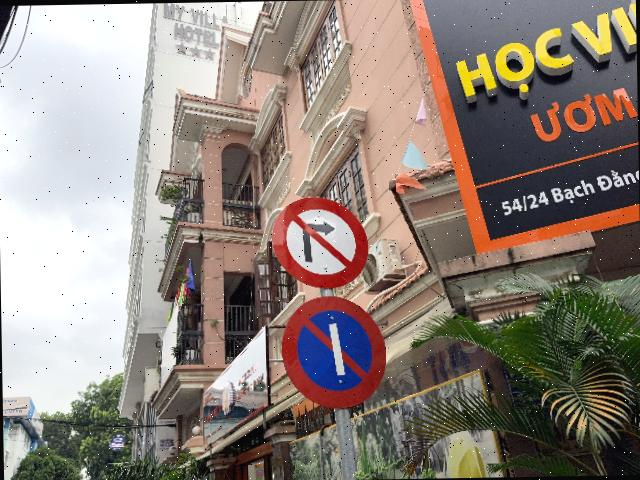cam-do-xe-ngay-le: (282, 294, 388, 410)
cam-re-phai: (270, 194, 370, 290)
